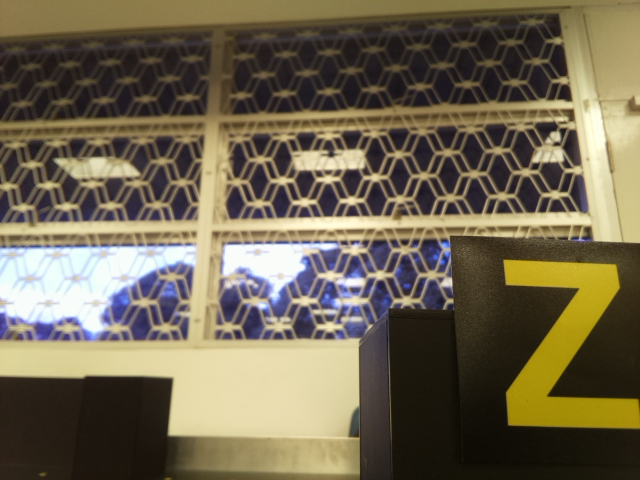z: (486, 251, 640, 441)
